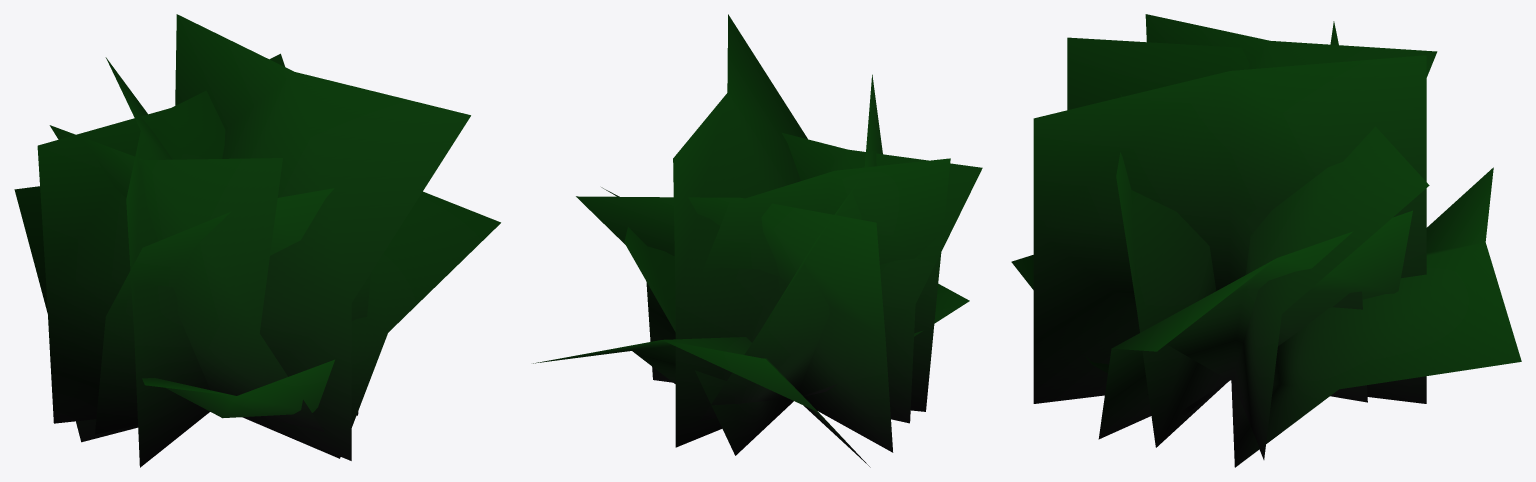
Rendered from FlowerBushBlueCATAM_A.fbx.
The picture shows the model from 3 angles, left to right: view 1: azimuth 30°, elevation 25°; view 2: azimuth 150°, elevation 25°; view 3: azimuth 270°, elevation 25°; orthographic projection. The views are drawn at different scales.
Parts seen in each view (by area): view 1: FlowerBushBlueCATAM_A; view 2: FlowerBushBlueCATAM_A; view 3: FlowerBushBlueCATAM_A.
Boxes of the visible parts, left/top/right/bottom form: FlowerBushBlueCATAM_A: left=14, top=14, right=500, bottom=467; FlowerBushBlueCATAM_A: left=533, top=14, right=982, bottom=467; FlowerBushBlueCATAM_A: left=1011, top=14, right=1521, bottom=467.
Bounding box in the file's own units: 1.4 × 1.19 × 1.43.
